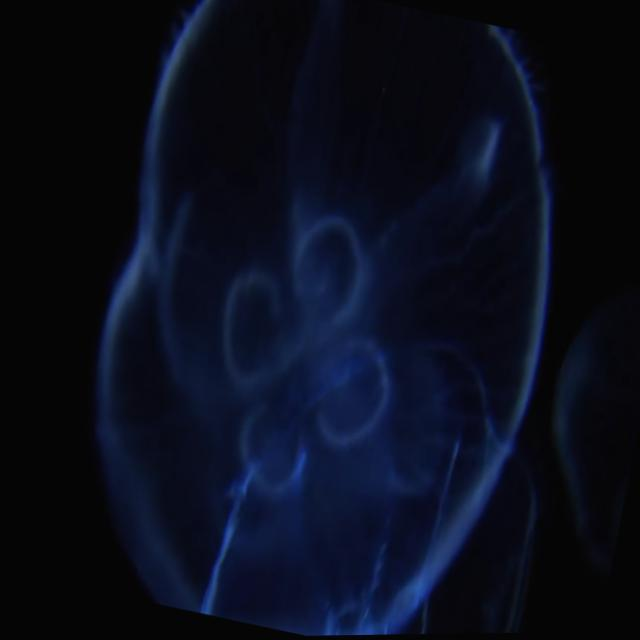Moon-jellyfish: (85, 0, 590, 637)
